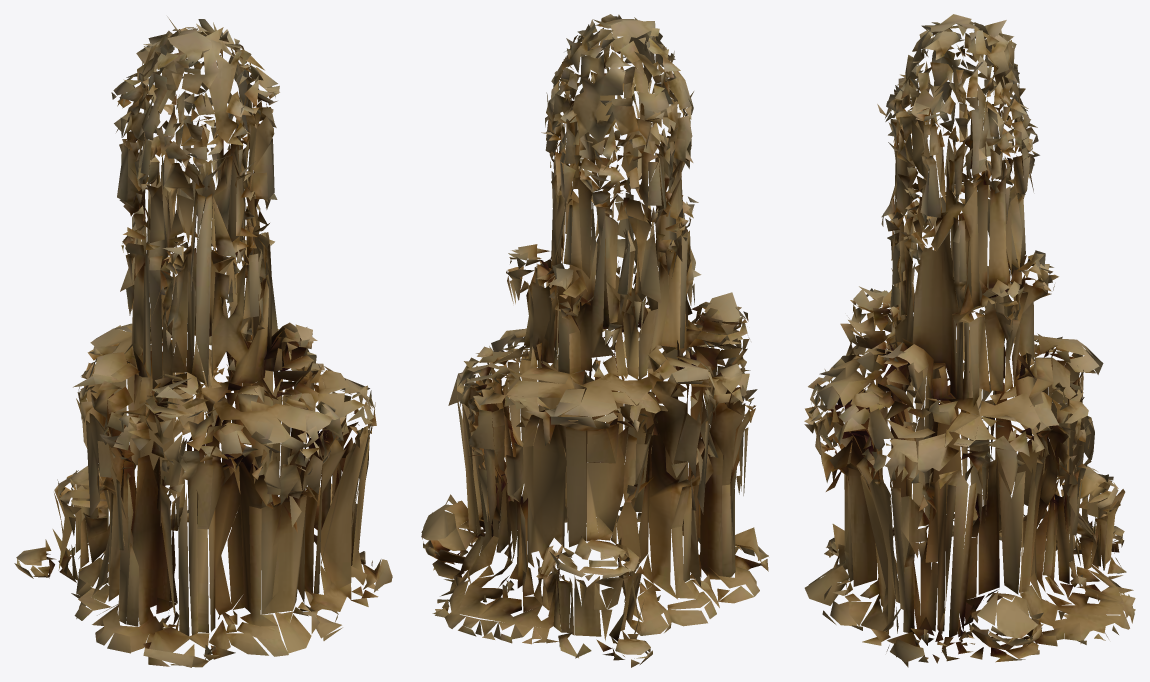
File: cav_flowstone_column_LOD2.glb
3 views of the same model, side by side, from view 1: azimuth 30°, elevation 25°; view 2: azimuth 150°, elevation 25°; view 3: azimuth 270°, elevation 25° (orthographic).
Parts seen in each view (by area): view 1: tripo_node_8a3f4ca2-850e-4edb-8c34-48b62ca6a1c1; view 2: tripo_node_8a3f4ca2-850e-4edb-8c34-48b62ca6a1c1; view 3: tripo_node_8a3f4ca2-850e-4edb-8c34-48b62ca6a1c1.
Boxes of the visible parts, <box> form: tripo_node_8a3f4ca2-850e-4edb-8c34-48b62ca6a1c1: <box>14,16,392,667</box>; tripo_node_8a3f4ca2-850e-4edb-8c34-48b62ca6a1c1: <box>421,14,768,667</box>; tripo_node_8a3f4ca2-850e-4edb-8c34-48b62ca6a1c1: <box>804,14,1135,667</box>.
Size of the model in its own units: 0.5387 by 1.01 by 0.5307.
1 material, 1 textured.
